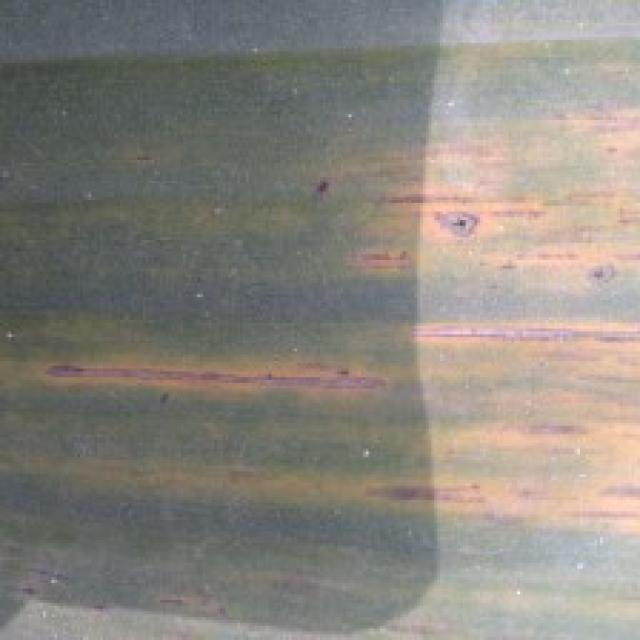Early_leaf_spot: (330, 82, 640, 309), (380, 300, 640, 531), (31, 337, 398, 419), (90, 426, 334, 516)
